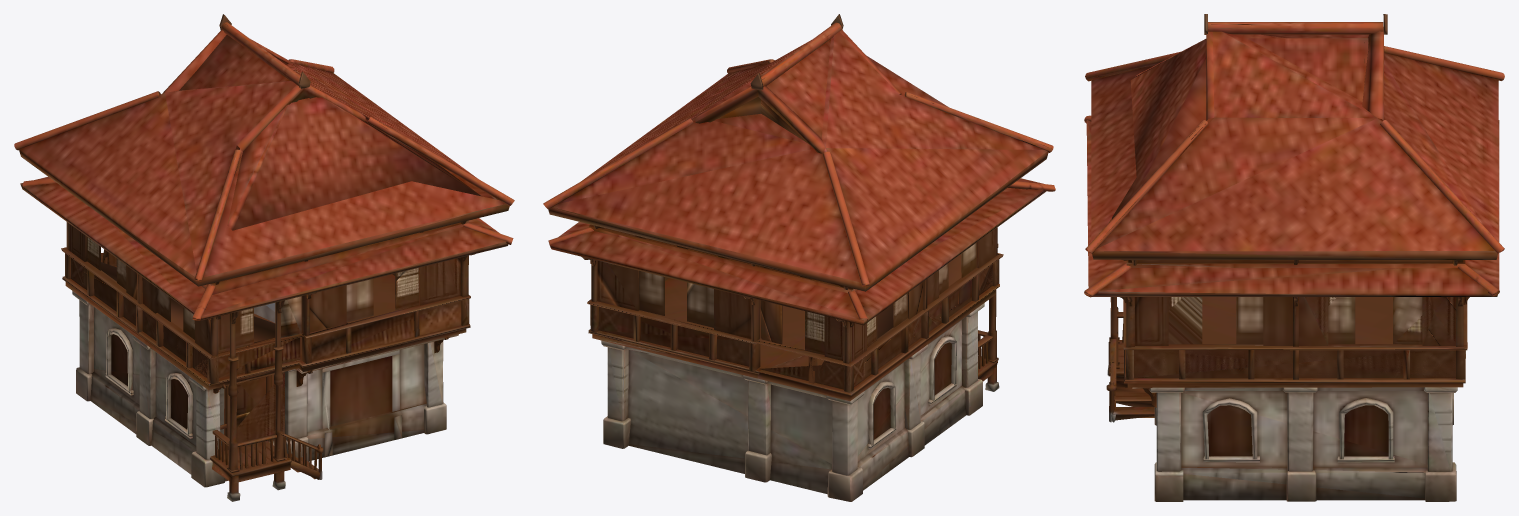
File: bahay-na-bato.glb
3 renders of one model, left to right at view 1: azimuth 30°, elevation 25°; view 2: azimuth 150°, elevation 25°; view 3: azimuth 270°, elevation 25°, orthographic. The views are drawn at different scales.
Visible parts, largest first — view 1: geometry_0; view 2: geometry_0; view 3: geometry_0.
Boxes of the visible parts, x1,y1,x2,y2 form: geometry_0: [14, 14, 514, 501]; geometry_0: [543, 14, 1055, 501]; geometry_0: [1084, 14, 1504, 501].
Size of the model in its own units: 0.8663 by 0.9521 by 0.8628.
1 material, 1 textured.
